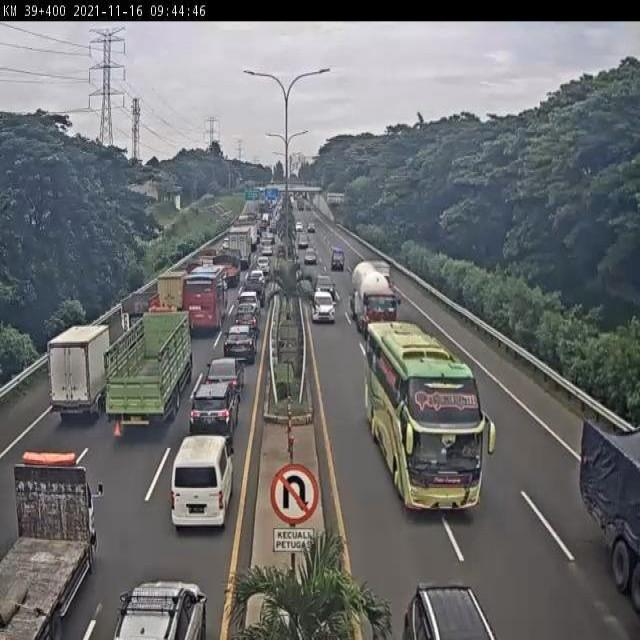big bus: (367, 323, 493, 517), (184, 267, 227, 332)
car: (188, 386, 236, 451), (204, 361, 245, 403), (221, 329, 253, 368), (312, 291, 338, 324), (232, 308, 259, 335), (236, 288, 261, 316)
small bus: (168, 437, 234, 532)
small truck: (153, 275, 186, 321)
truck-l-: (111, 314, 190, 429)
truck-m-: (0, 446, 103, 640), (46, 327, 107, 425), (114, 300, 156, 343)
truck-xl-: (349, 260, 401, 335)
